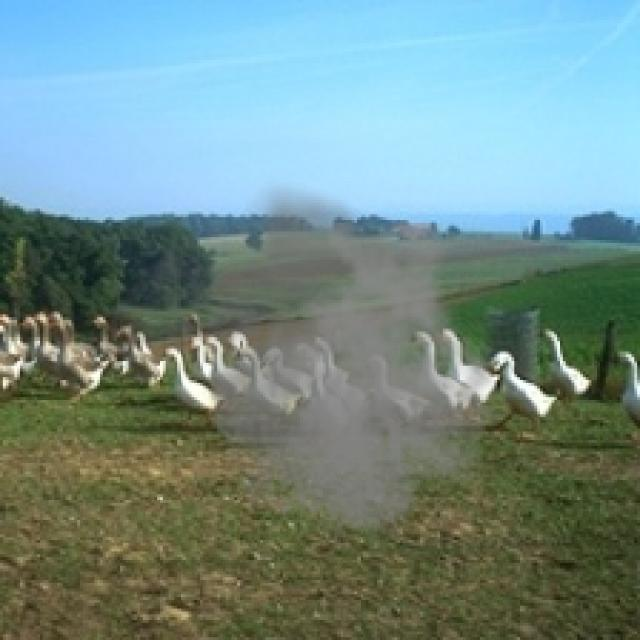smoke: (106, 177, 503, 557)
